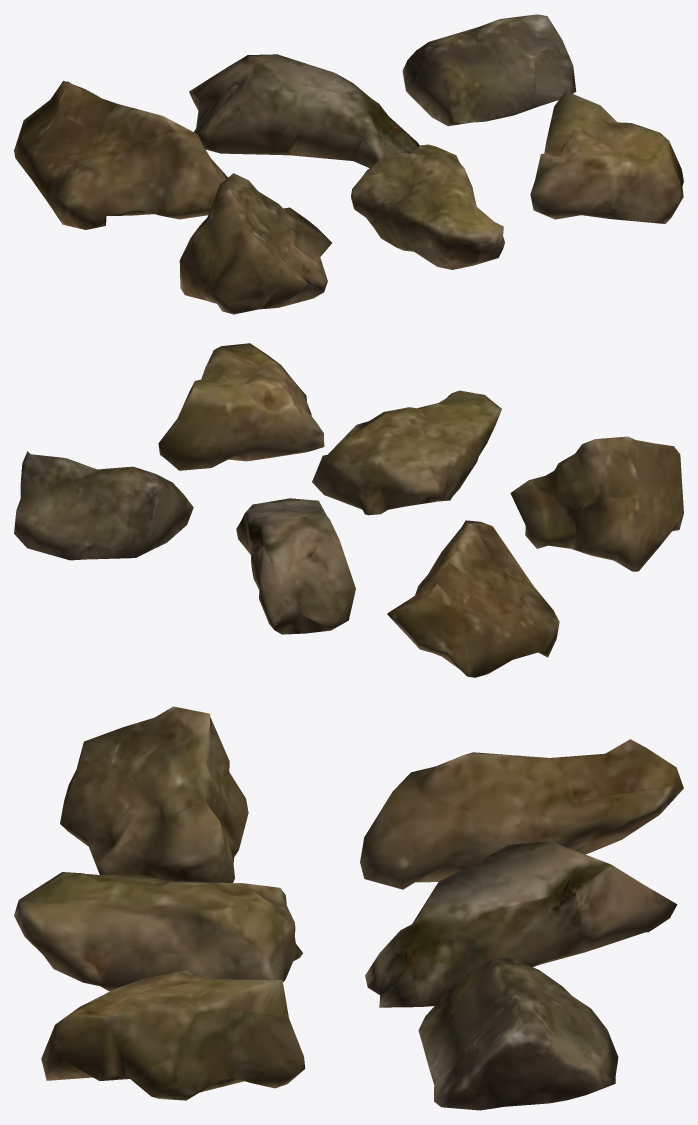
File: rocks_lo.glb
The picture shows the model from 3 angles, top to bottom: view 1: azimuth 30°, elevation 25°; view 2: azimuth 150°, elevation 25°; view 3: azimuth 270°, elevation 25°; orthographic projection. The views are drawn at different scales.
Parts seen in each view (by area): view 1: rock_moss_set_01_rock01, rock_moss_set_01_rock02, rock_moss_set_01_rock06, rock_moss_set_01_rock04, rock_moss_set_01_rock03, rock_moss_set_01_rock05; view 2: rock_moss_set_01_rock04, rock_moss_set_01_rock01, rock_moss_set_01_rock05, rock_moss_set_01_rock03, rock_moss_set_01_rock06, rock_moss_set_01_rock02; view 3: rock_moss_set_01_rock01, rock_moss_set_01_rock02, rock_moss_set_01_rock05, rock_moss_set_01_rock04, rock_moss_set_01_rock06, rock_moss_set_01_rock03.
Boxes of the visible parts, x1,y1,x2,y2 form: rock_moss_set_01_rock01: (14, 81, 227, 229); rock_moss_set_01_rock02: (189, 54, 419, 167); rock_moss_set_01_rock06: (530, 91, 683, 223); rock_moss_set_01_rock04: (179, 173, 331, 314); rock_moss_set_01_rock03: (402, 14, 576, 126); rock_moss_set_01_rock05: (351, 144, 504, 269); rock_moss_set_01_rock04: (510, 436, 683, 571); rock_moss_set_01_rock01: (387, 520, 559, 677); rock_moss_set_01_rock05: (312, 390, 501, 515); rock_moss_set_01_rock03: (14, 451, 193, 560); rock_moss_set_01_rock06: (158, 343, 324, 470); rock_moss_set_01_rock02: (236, 498, 355, 634); rock_moss_set_01_rock01: (360, 739, 683, 889); rock_moss_set_01_rock02: (365, 841, 677, 1007); rock_moss_set_01_rock05: (14, 872, 302, 991); rock_moss_set_01_rock04: (60, 706, 248, 882); rock_moss_set_01_rock06: (41, 970, 305, 1100); rock_moss_set_01_rock03: (418, 958, 618, 1110).
Bounding box in the file's own units: 7.98 × 1.76 × 6.94.
1 material, 1 textured.
